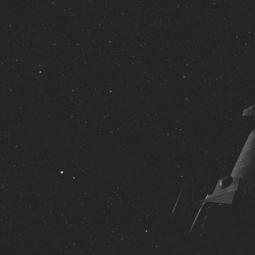xmm_newton: (157, 86, 255, 240)
